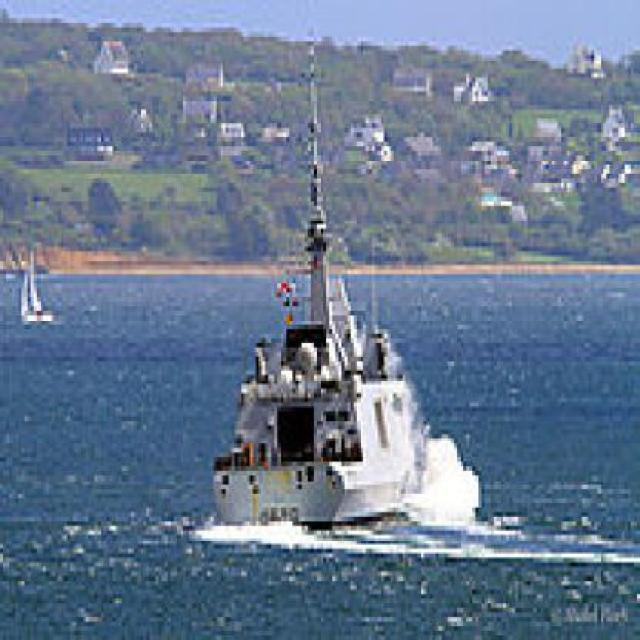warship2: (199, 14, 428, 554)
